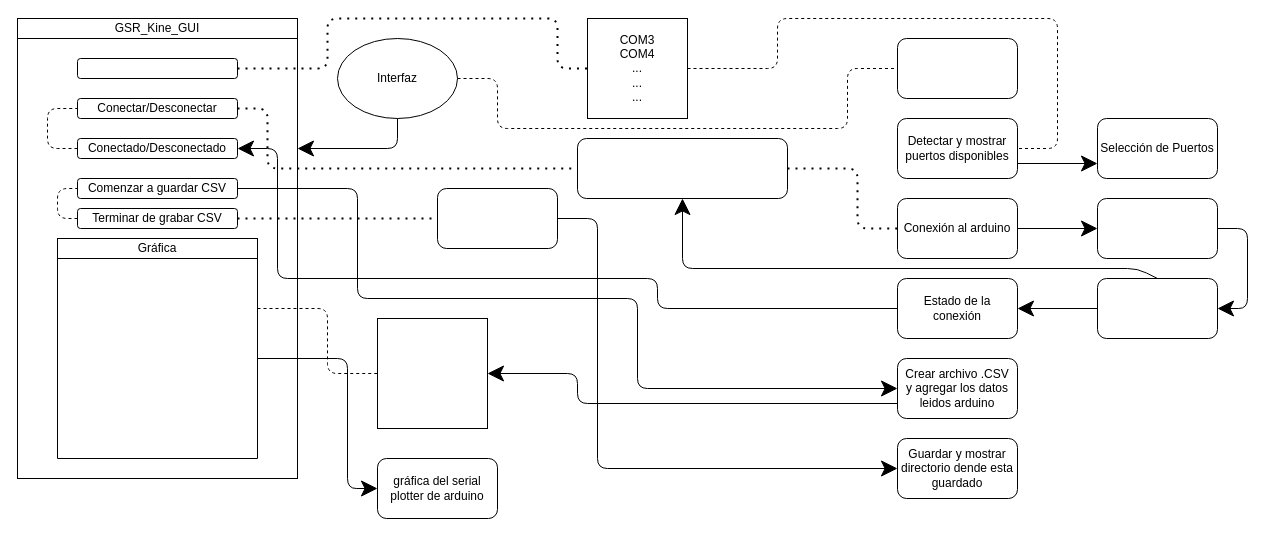
Image size: 1281x536. Some labels were removed from this diagram. The shapes that lost their labels are listed below. From the top down, each one's centre as x and y in pixels, then its label:
At (x=157, y=68): "+Puertos".
At (x=957, y=68): "Clase Arduino_GUI".
At (x=682, y=168): "Imposible conectar/Conectado corrctamente/ Desconectado".
At (x=497, y=218): "Guardado en:".
At (x=1157, y=228): "funcion para reconocer Arduino".
At (x=1157, y=308): "Comprueba la conexión".
At (x=432, y=373): "CSV Dato, Tiempo".
